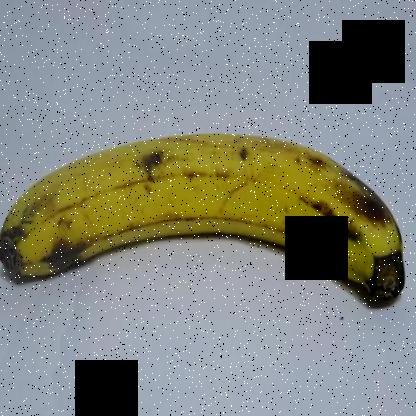ripe: (1, 119, 409, 331)
